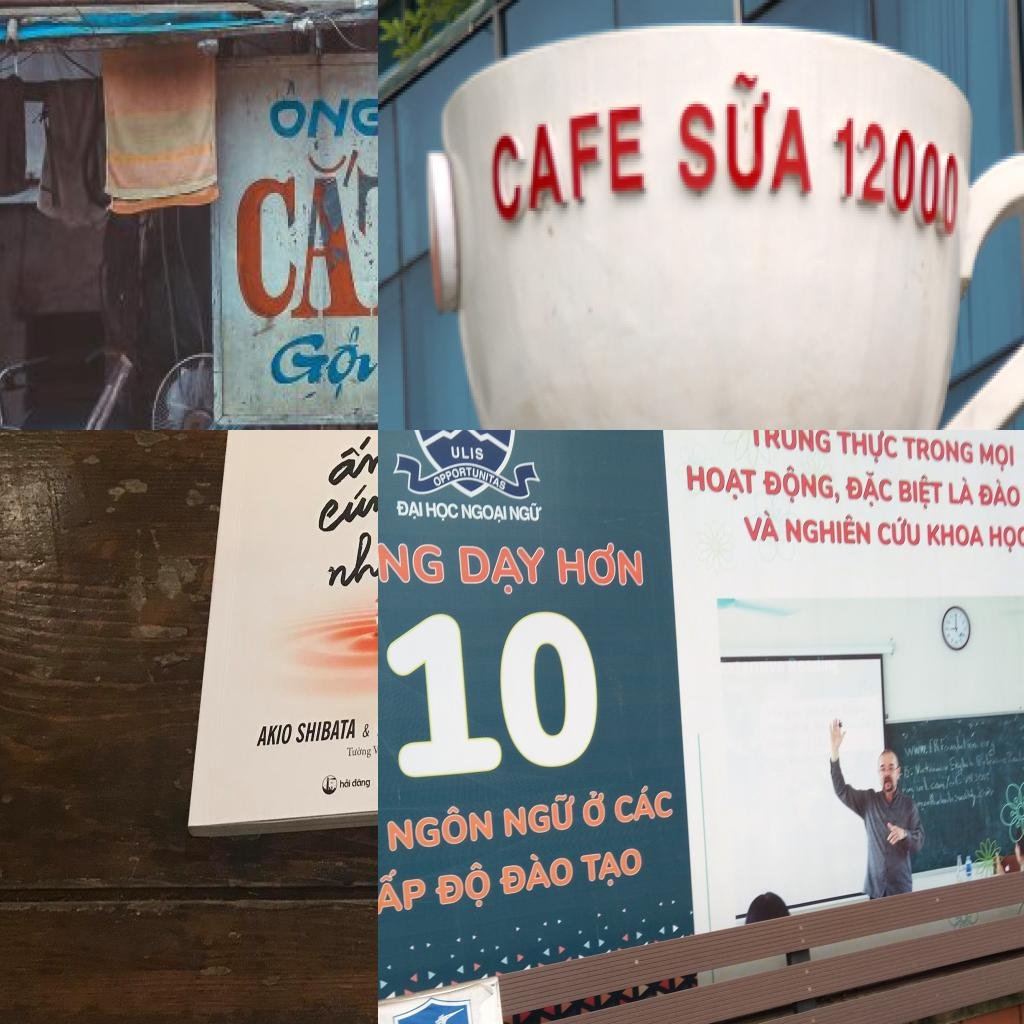text: (380, 604, 604, 783), (232, 146, 378, 322), (490, 95, 652, 240), (830, 101, 970, 255), (676, 67, 819, 208), (261, 72, 378, 148), (264, 328, 378, 404), (384, 798, 496, 858), (454, 541, 548, 594), (552, 540, 645, 591), (378, 523, 447, 590), (496, 844, 577, 901), (321, 511, 378, 589), (317, 468, 378, 536), (501, 789, 578, 842), (578, 838, 648, 896), (431, 856, 491, 917), (783, 508, 872, 547), (613, 777, 677, 830), (378, 860, 426, 927), (760, 464, 840, 504), (682, 459, 756, 501), (320, 433, 378, 484), (901, 432, 974, 466), (428, 466, 508, 497), (741, 430, 832, 456), (834, 430, 900, 465), (841, 467, 894, 508), (296, 715, 359, 745), (924, 519, 986, 549), (896, 471, 943, 509), (983, 518, 1024, 558), (736, 506, 779, 544), (874, 515, 922, 548), (976, 478, 1022, 507), (459, 501, 509, 527), (578, 786, 608, 828), (975, 441, 1015, 472), (944, 473, 976, 508), (253, 720, 295, 745), (424, 501, 459, 525), (510, 501, 544, 524), (448, 442, 486, 462), (394, 499, 424, 522), (345, 742, 373, 758), (354, 774, 374, 792), (337, 774, 354, 790), (370, 739, 378, 760)
